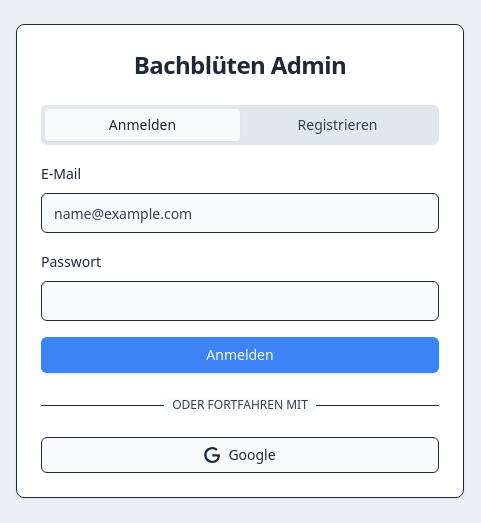
RegistrationForm › validates matching passwords
Click the tab "Registrieren" at (338, 125), box [240,109,435,141]
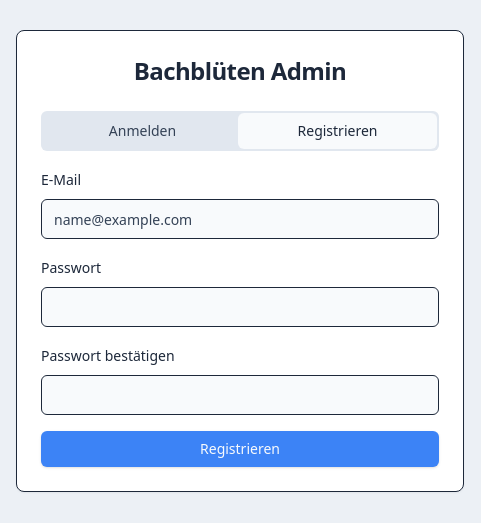
Unterschiedliche Passwörter eingeben
Type "test@example.com" into the field labelled "E-Mail" at (240, 219), box [41,199,439,239]
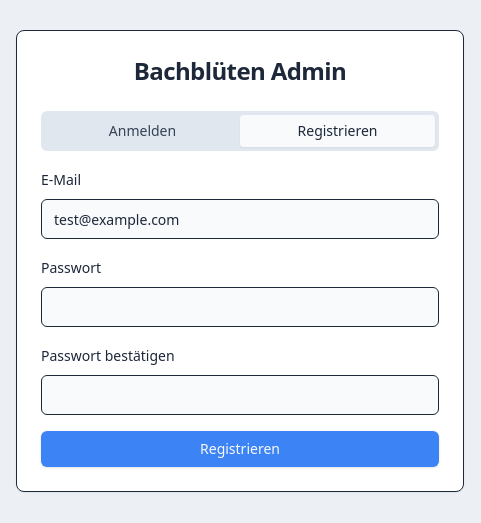
Type "password123" into the password field labelled "Passwort" at (240, 307), box [41,287,439,327]
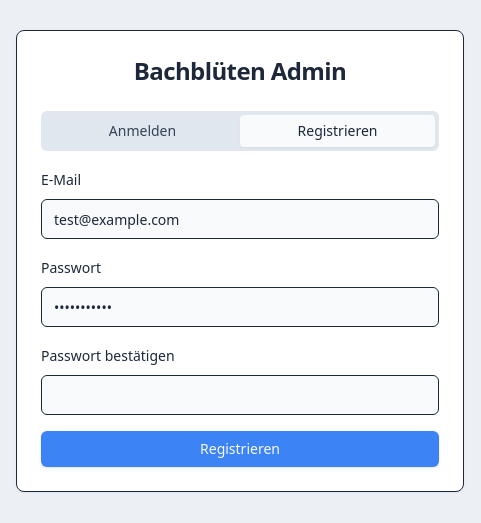
Type "different" into the password field labelled "Passwort bestätigen" at (240, 395), box [41,375,439,415]
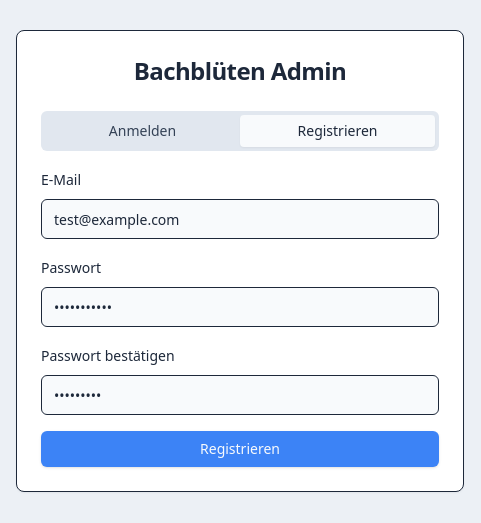
Form absenden
Click the button "Registrieren" at (240, 449), box [41,431,439,467]
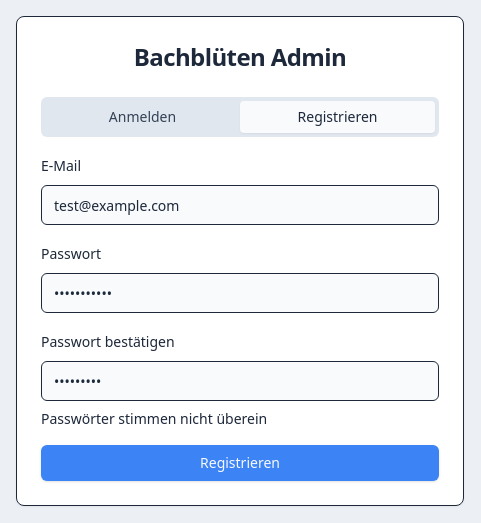
Result: the text "Passwörter stimmen nicht überein" is shown at [41,409,267,428]
